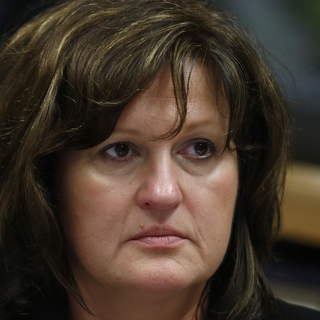eye: (96, 139, 145, 163), (178, 138, 222, 164)
